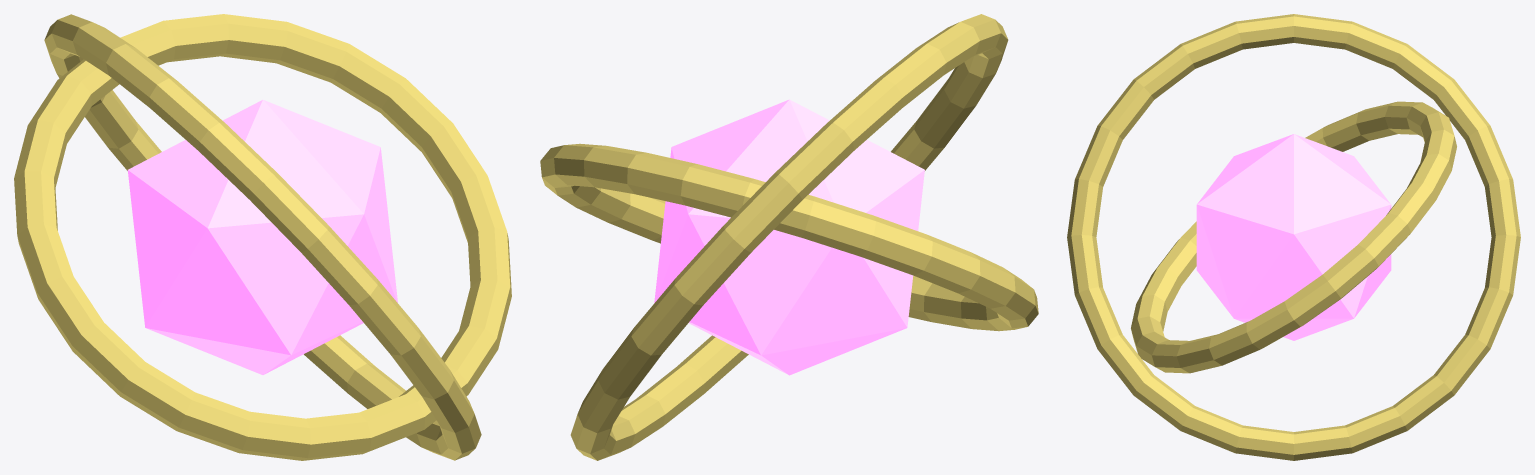
File: weapon_psy_orb.glb
3 renders of one model, left to right at view 1: azimuth 30°, elevation 25°; view 2: azimuth 150°, elevation 25°; view 3: azimuth 270°, elevation 25°, orthographic. The views are drawn at different scales.
Parts seen in each view (by area): view 1: GyroRingA, PsyCore, GyroRingB; view 2: PsyCore, GyroRingB, GyroRingA; view 3: GyroRingB, PsyCore, GyroRingA.
Boxes of the visible parts, box(x1,y1,x2,y2) form: GyroRingA: box(14, 14, 511, 460); PsyCore: box(127, 100, 397, 374); GyroRingB: box(44, 14, 481, 460); PsyCore: box(654, 99, 924, 375); GyroRingB: box(570, 14, 1008, 460); GyroRingA: box(540, 143, 1038, 331); GyroRingB: box(1067, 14, 1520, 460); PsyCore: box(1196, 134, 1391, 340); GyroRingA: box(1131, 101, 1456, 373).
Bounding box in the file's own units: 0.48 × 0.4614 × 0.556.
